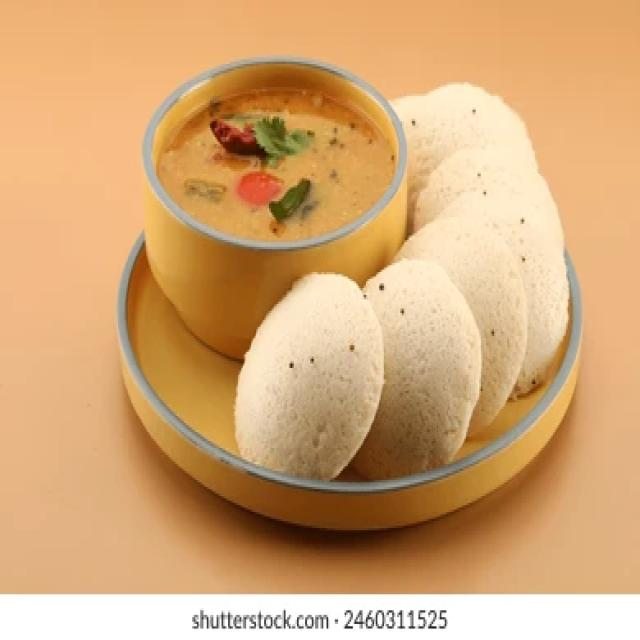IDLI: (352, 85, 563, 477), (230, 272, 382, 484)
